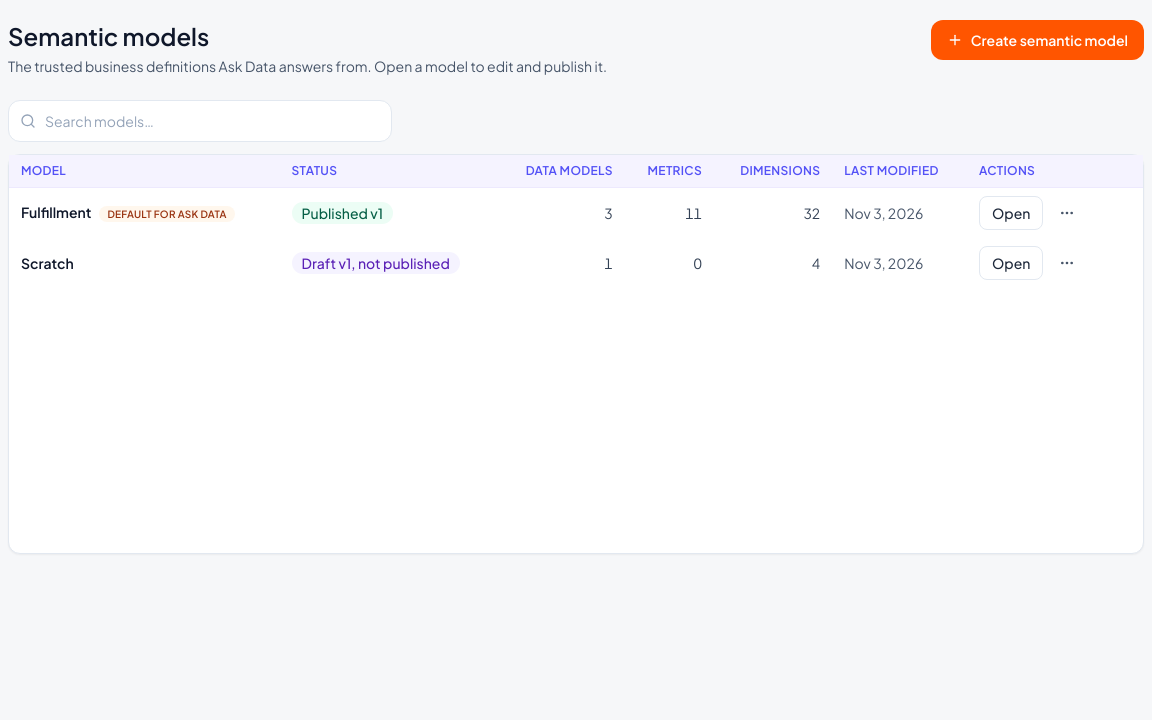
Test: SemanticModelsListPage › shows the reason when a delete fails and keeps the model
This screenshot has width=1152, height=720.
What coordinates should you click on to do the following:
click the button named "More actions for Scratch"
I would click on:
 (1067, 263)
Its box is x1=1051 y1=247 x2=1083 y2=279.
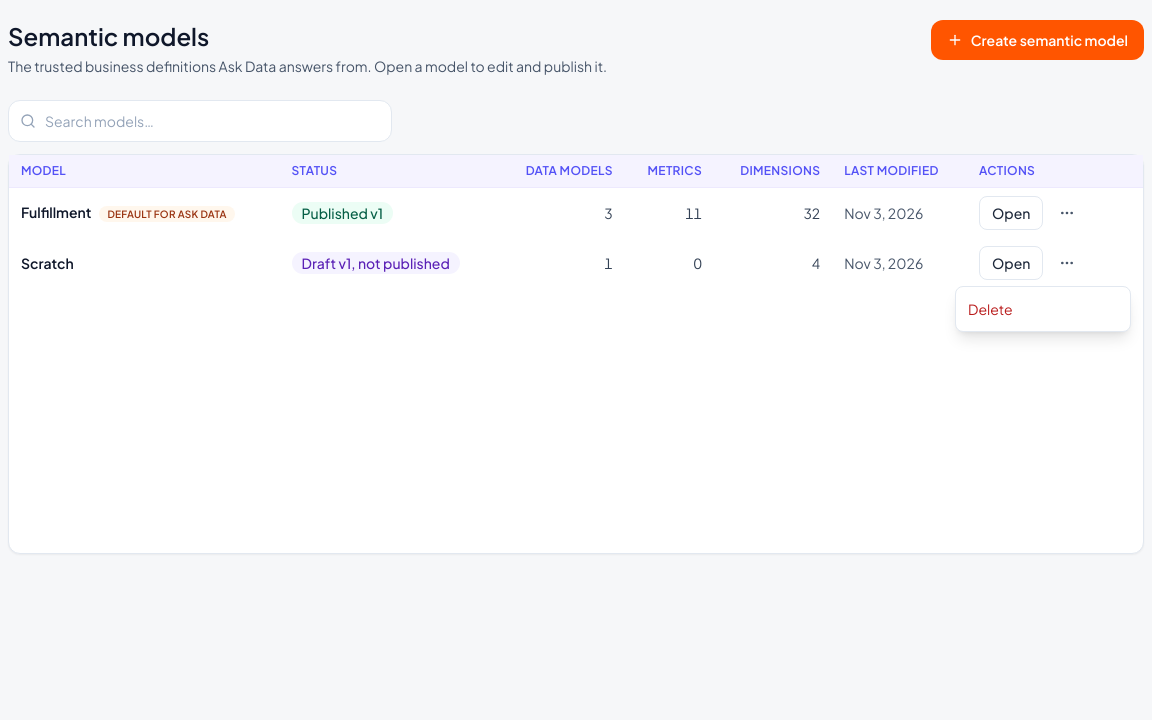
What coordinates should you click on to do the following:
click the menu item "Delete"
I would click on:
 (1043, 309)
Its box is x1=956 y1=291 x2=1130 y2=327.
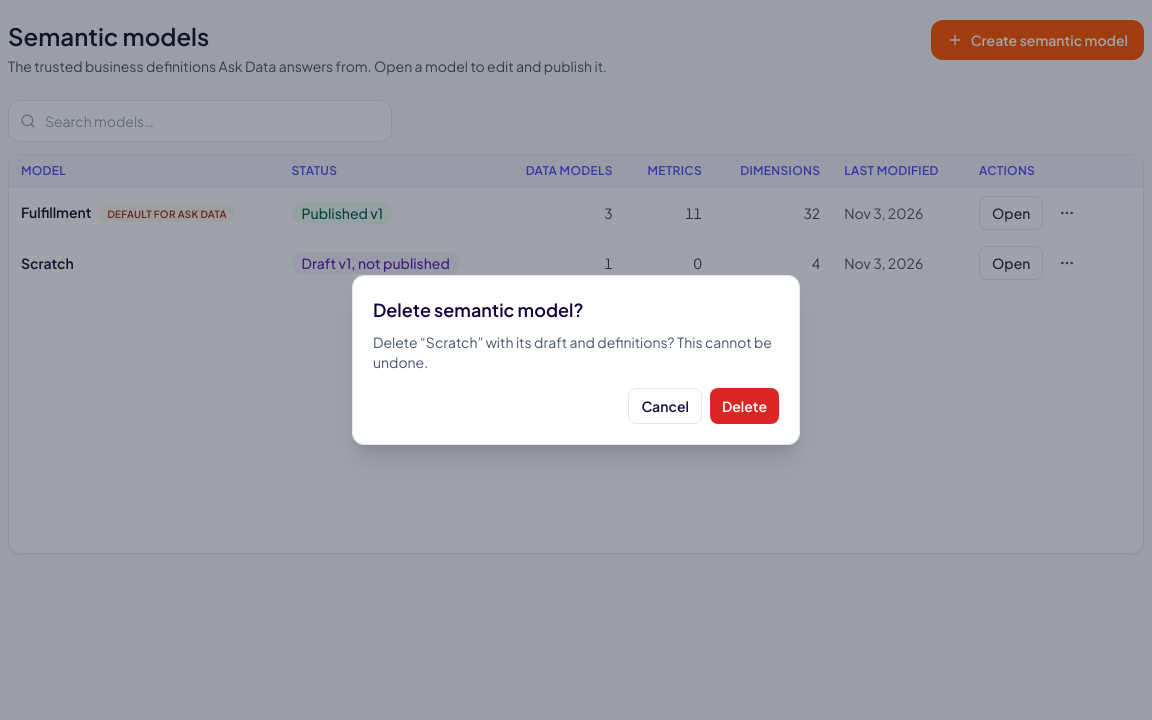
What coordinates should you click on to do the following:
click the button "Delete"
I would click on:
 (744, 406)
Its box is x1=710 y1=388 x2=779 y2=424.
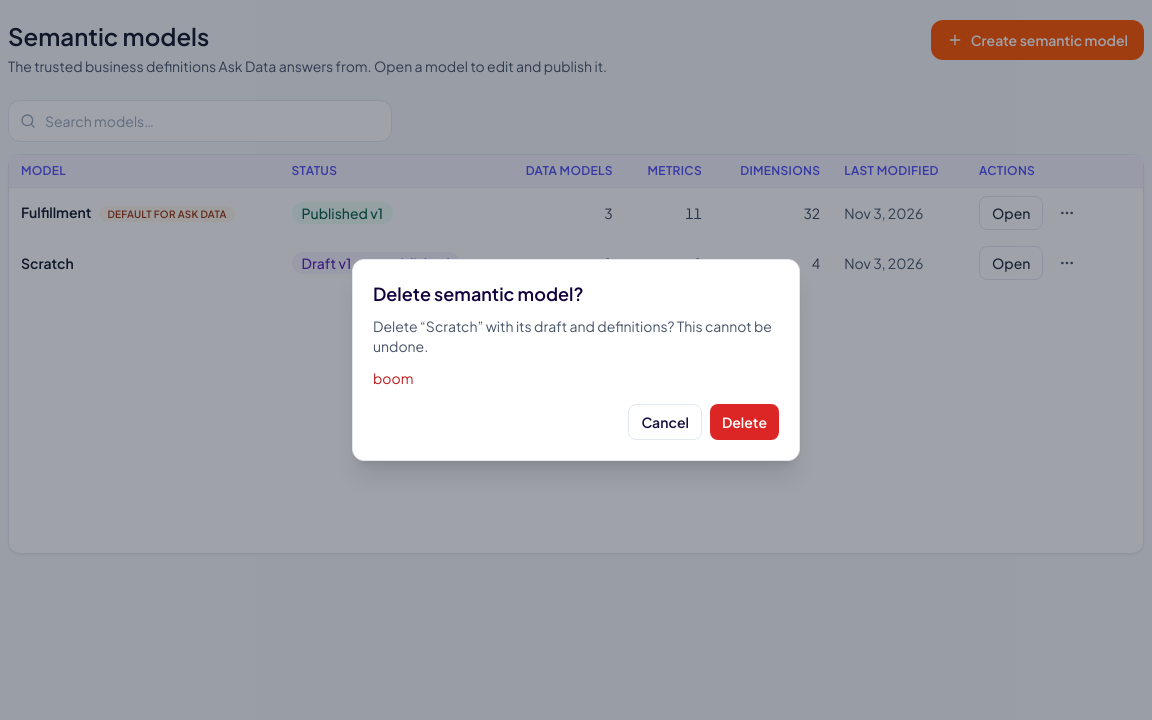
Expected: the number of rows with test id "semantic-model-row" is 2, x1=9 y1=188 x2=1143 y2=238; x1=9 y1=238 x2=1143 y2=288
Expected: the message reads "boom", x1=373 y1=369 x2=413 y2=387
